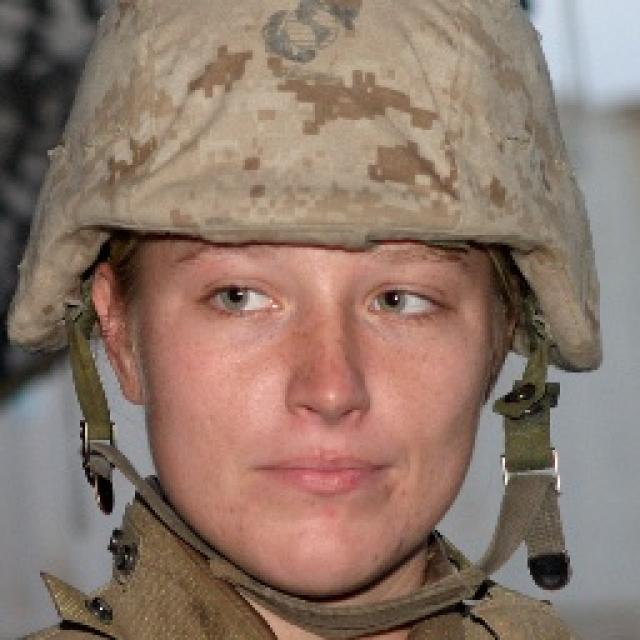earlobe: (115, 371, 145, 408)
eye: (364, 285, 446, 318), (205, 285, 278, 316)
nose: (289, 405, 368, 450)
wholeear: (92, 260, 145, 410)
